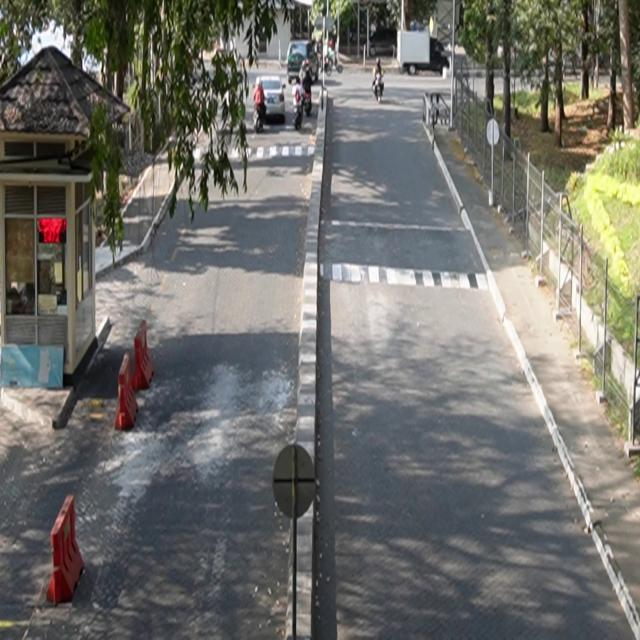car: (255, 76, 287, 126)
truck: (397, 28, 451, 77)
